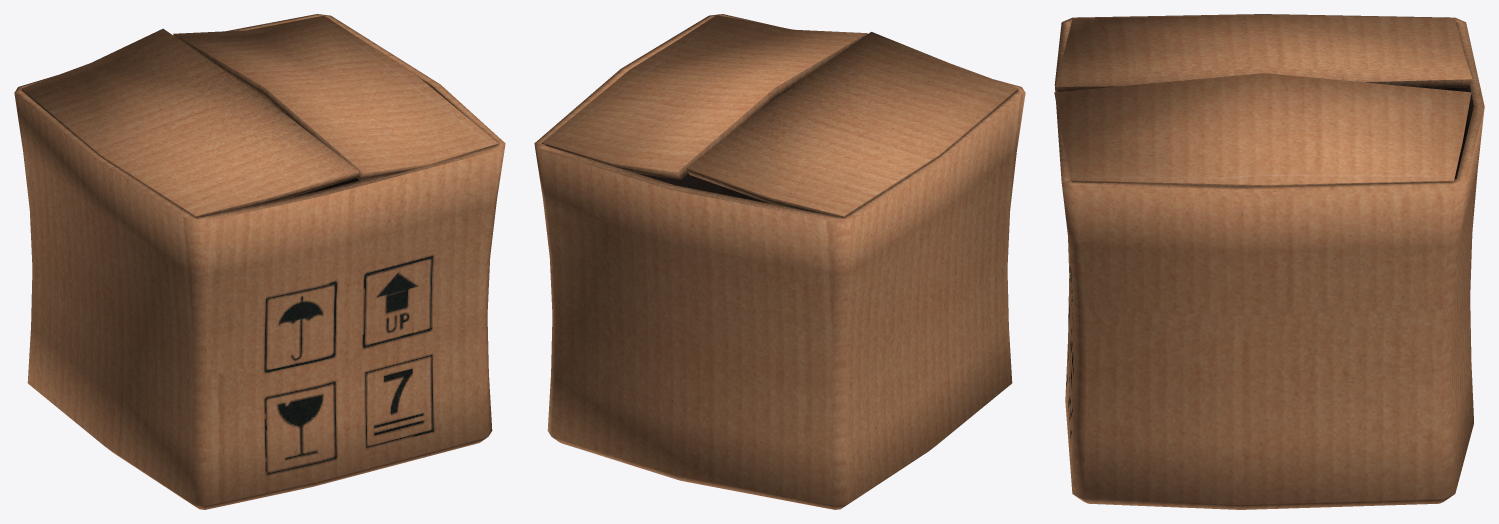
Rendered from cardboard.obj.
The picture shows the model from 3 angles, left to right: view 1: azimuth 30°, elevation 25°; view 2: azimuth 150°, elevation 25°; view 3: azimuth 270°, elevation 25°; orthographic projection. The views are drawn at different scales.
Visible parts, largest first — view 1: cardboard, cardboard_top_2, cardboard_top_1; view 2: cardboard, cardboard_top_2, cardboard_top_1; view 3: cardboard, cardboard_top_1, cardboard_top_2.
Boxes of the visible parts, x1,y1,x2,y2 form: cardboard: (14, 14, 505, 509); cardboard_top_2: (21, 28, 358, 217); cardboard_top_1: (173, 15, 498, 180); cardboard: (534, 14, 1025, 509); cardboard_top_2: (686, 32, 1018, 217); cardboard_top_1: (542, 15, 867, 179); cardboard: (1054, 14, 1484, 509); cardboard_top_1: (1054, 73, 1471, 187); cardboard_top_2: (1055, 15, 1472, 91).
Size of the model in its own units: 38.13 by 35.6 by 38.77.
